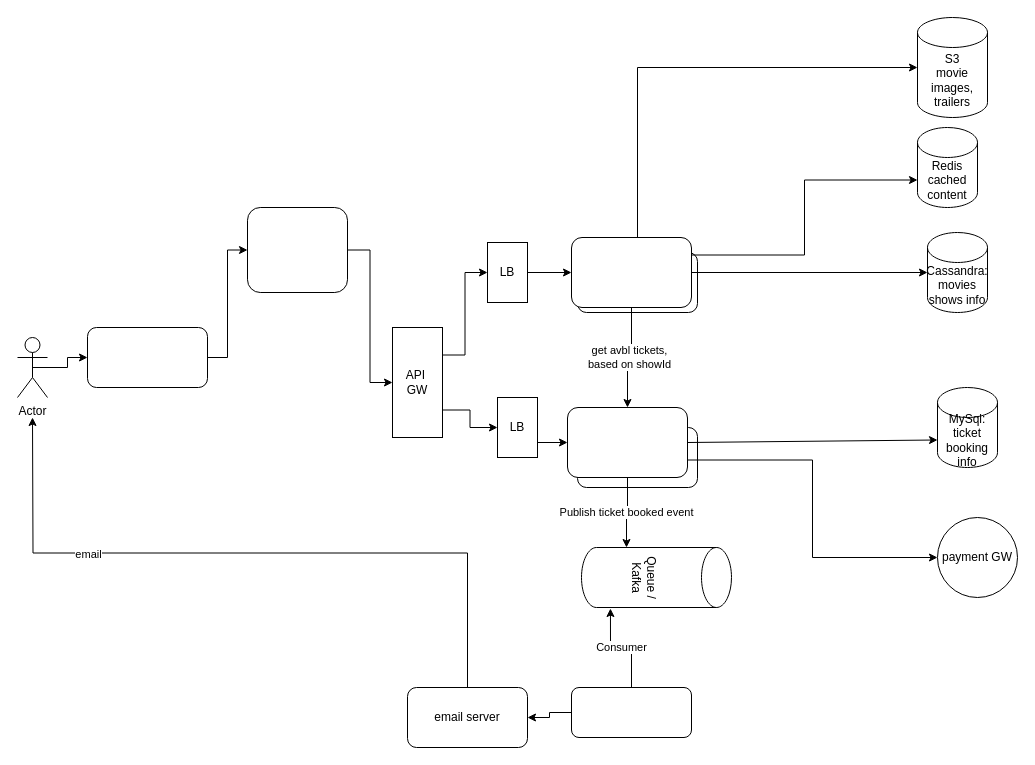
Some shapes in this 1035 by 765 pixel diagram are drawn without their labels. Here are the shapes that lost their labels. From the top down, the centre of each, then its label:
point (297, 249): CDN - movies images - movies trailer
point (631, 272): Movie view service
point (147, 357): DNS redirects to closest CDN
point (627, 442): ticket reservation service
point (631, 712): Notification service
